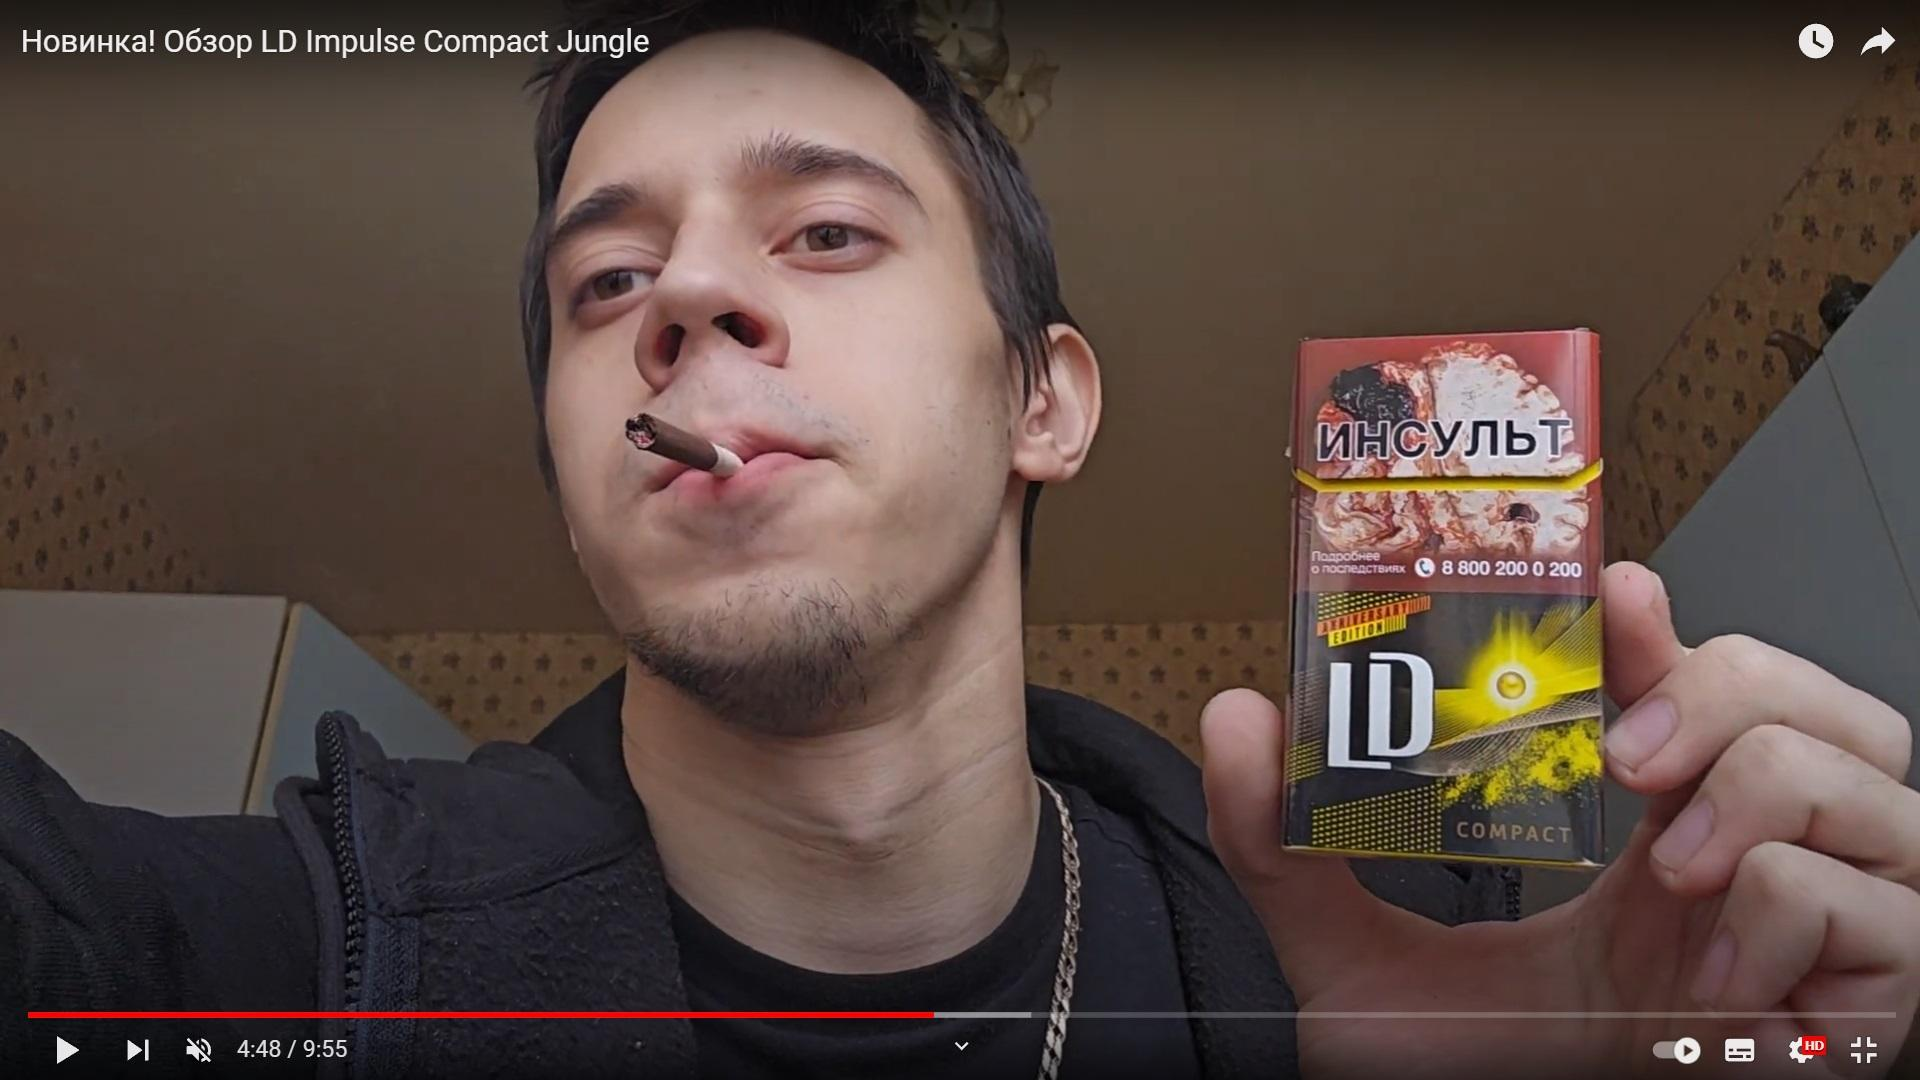cigarette: (626, 413, 742, 476)
